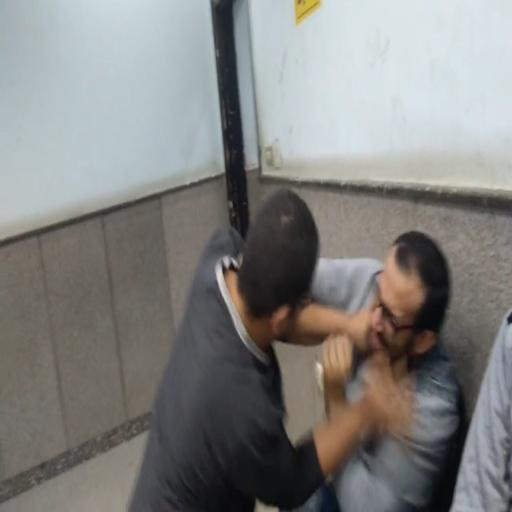violencia: (118, 149, 467, 512)
